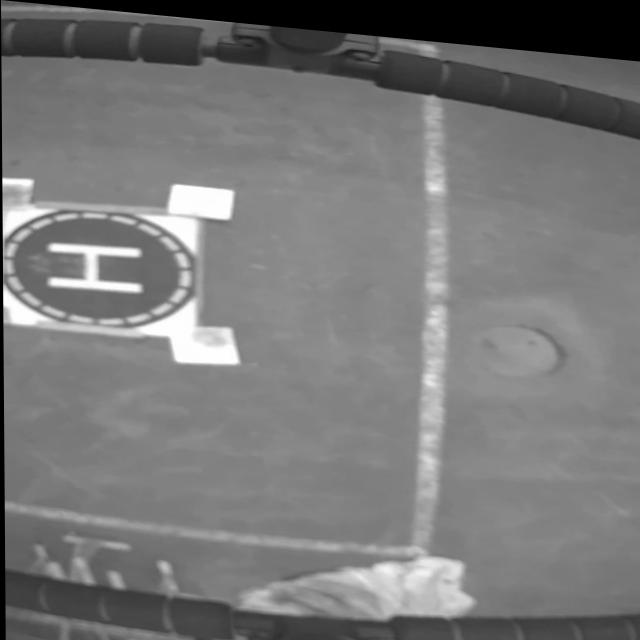Helipad: (43, 240, 141, 291)
